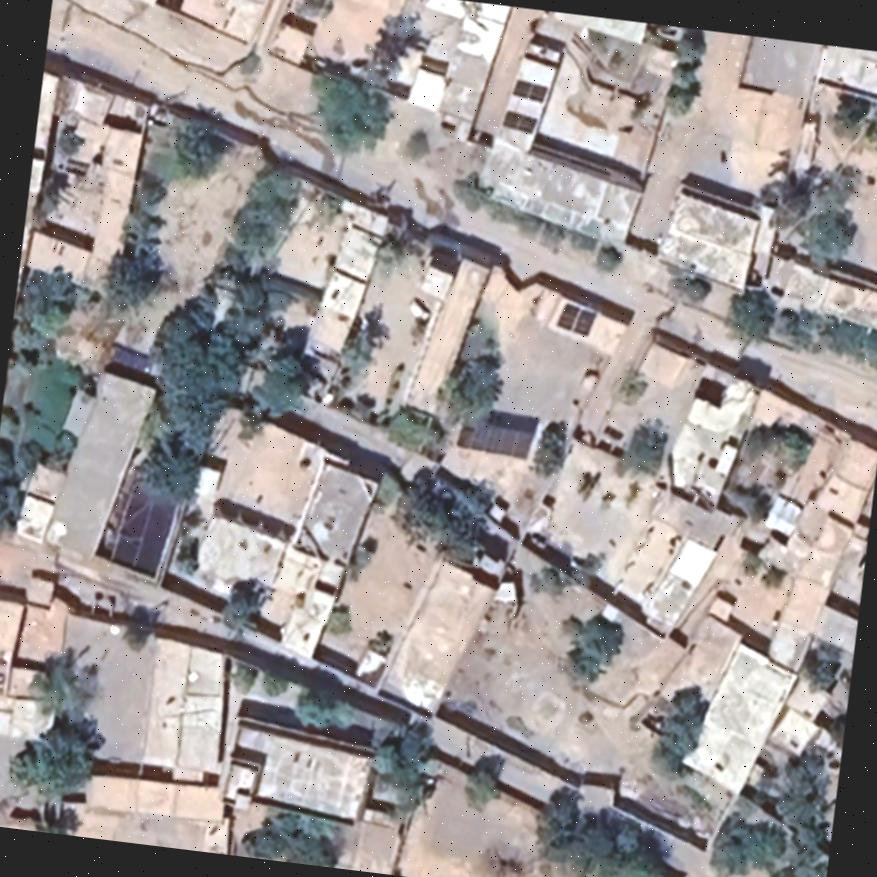Solarpanel: (450, 417, 539, 461), (551, 296, 603, 342), (495, 104, 542, 139), (509, 74, 551, 105)
